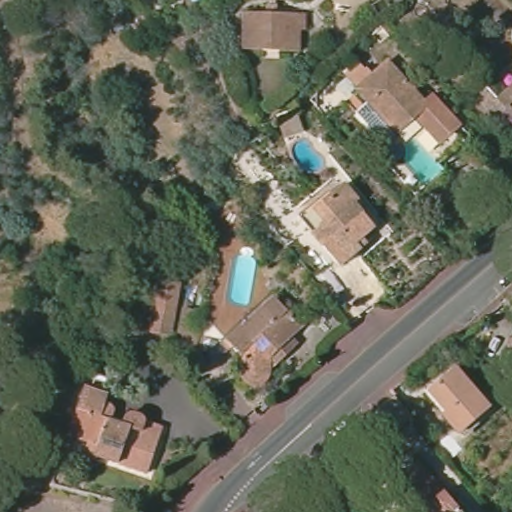pool: (395, 141, 443, 183), (228, 248, 256, 308), (358, 97, 394, 136), (290, 138, 325, 174)
